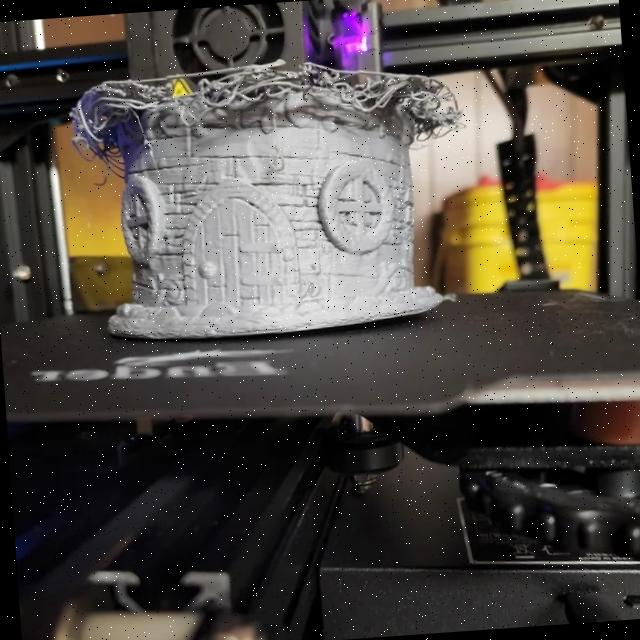spaghetti: (76, 60, 450, 128)
